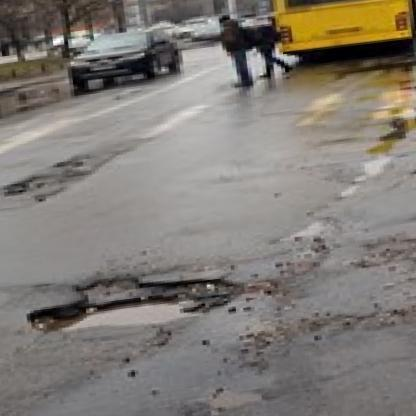pothole: (23, 260, 248, 343), (0, 167, 94, 206), (52, 152, 91, 172)
